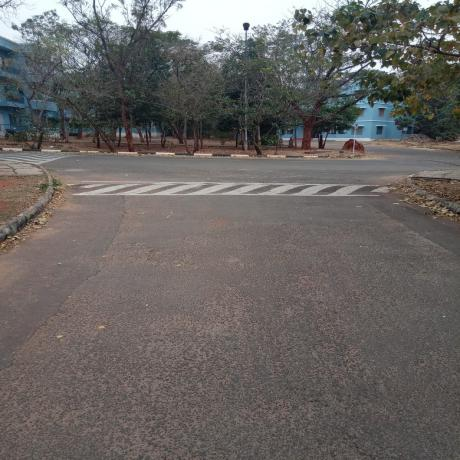Speed Bump: (56, 180, 404, 195)
